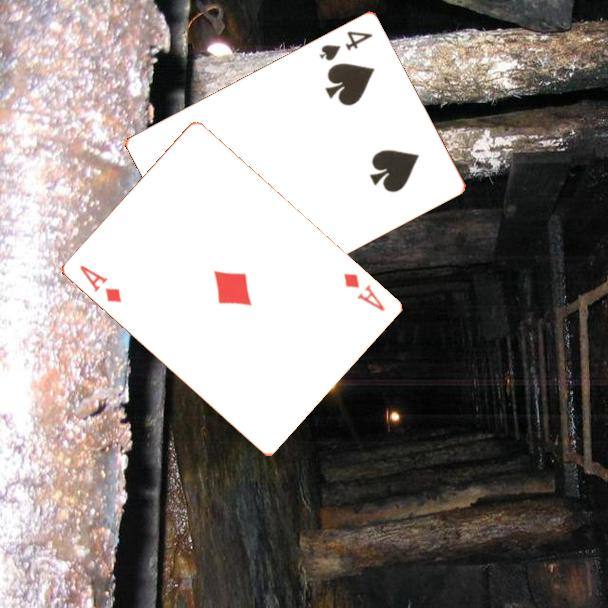d01: (339, 270, 388, 314), (76, 262, 124, 306)
s04: (315, 27, 376, 63)
